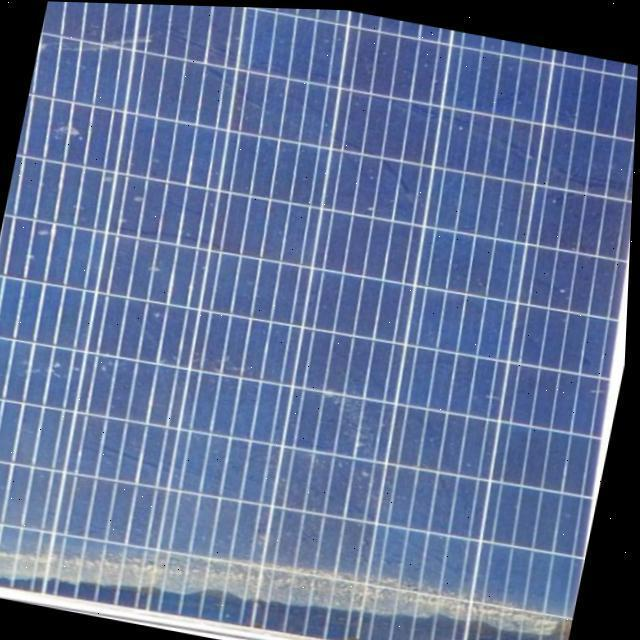Surface Contaminant: (0, 1, 638, 640)
